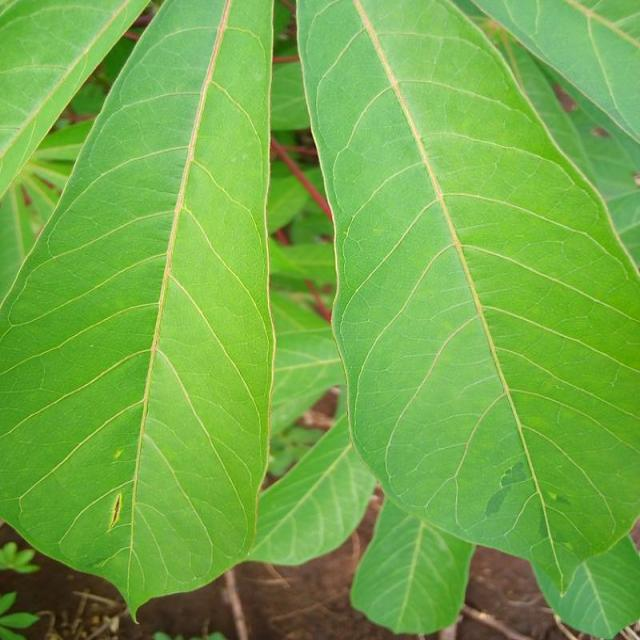cassava leaf: (294, 0, 639, 637), (0, 0, 277, 624)
